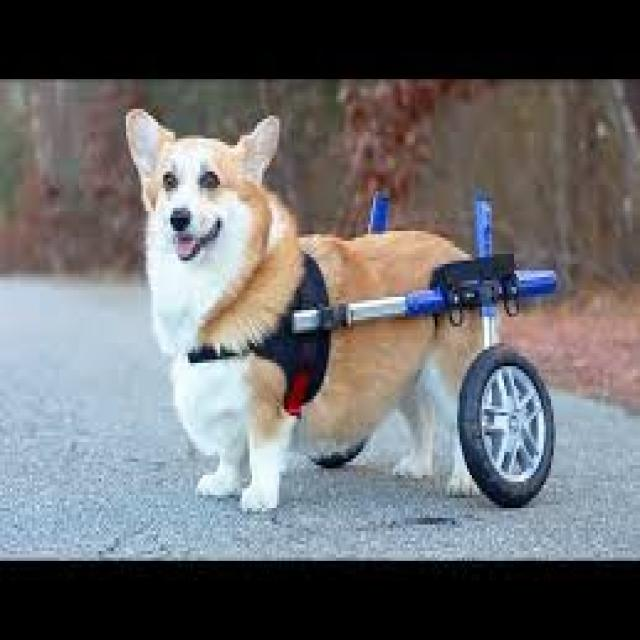CORGI: (114, 88, 519, 504)
